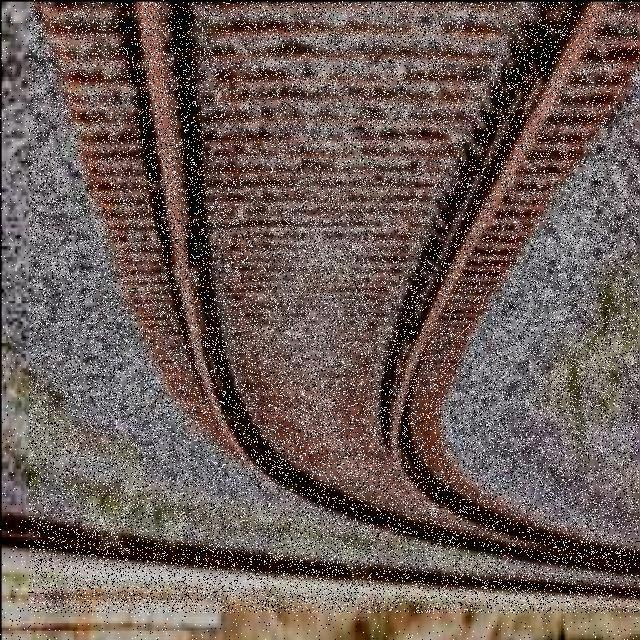rail: (29, 3, 640, 613)
